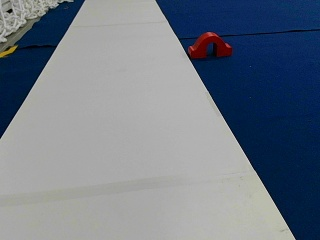bridge: (190, 32, 232, 56)
